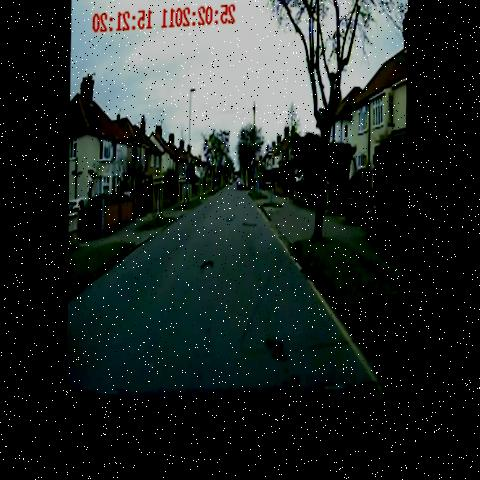pothole: (266, 327, 289, 367), (199, 251, 219, 284), (239, 214, 261, 239), (226, 215, 240, 235)
